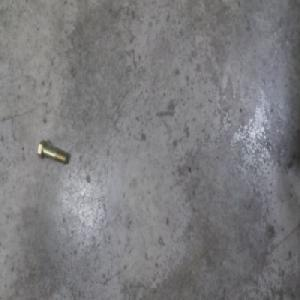Bolt: (37, 140, 68, 168)
